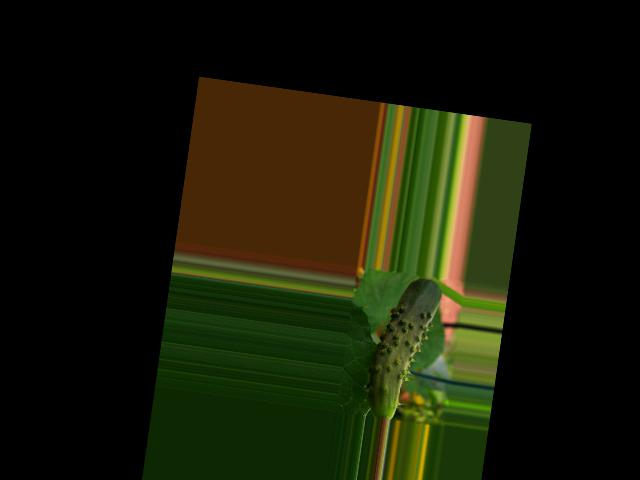cucumber: (361, 271, 443, 423)
